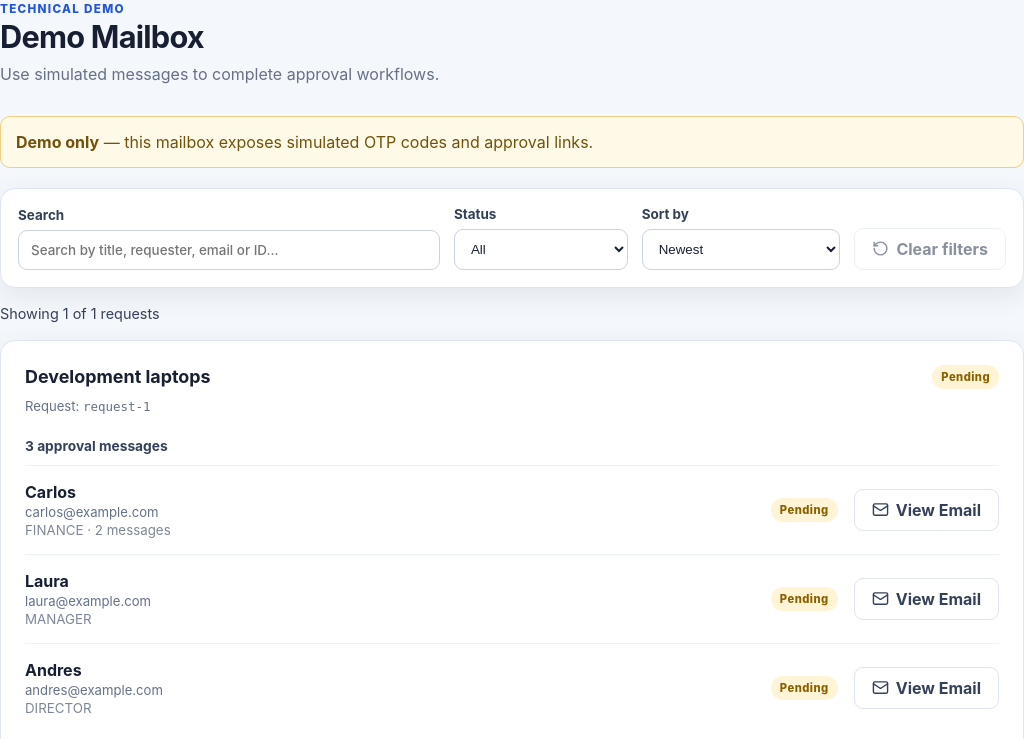
MockMailPage › uses only the latest email when an approver has multiple messages
Expected: the number of elements named "approval message" is 3, x1=25 y1=465 x2=999 y2=554; x1=25 y1=554 x2=999 y2=643; x1=25 y1=643 x2=999 y2=732
Expected: the text "FINANCE · 2 messages" is shown, x1=25 y1=522 x2=171 y2=538
Click the button "View Email" in the row of "· 2 messages": point(926, 510) x1=854 y1=489 x2=999 y2=531
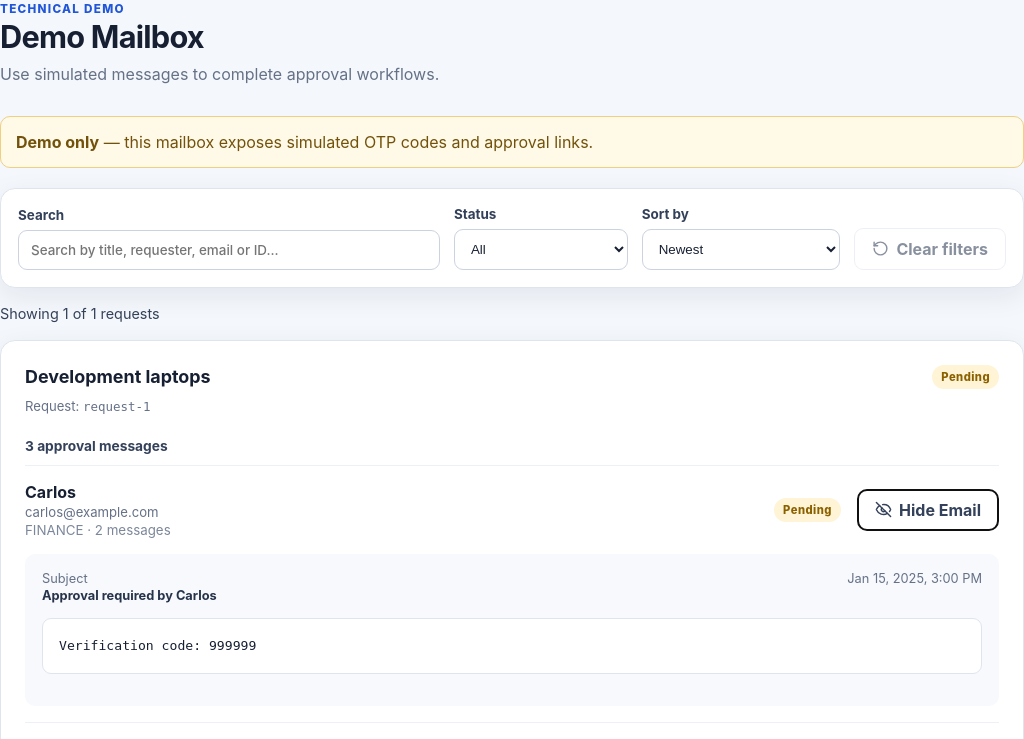
Now the text "Verification code: 999999" is shown, box x1=42 y1=618 x2=982 y2=674
